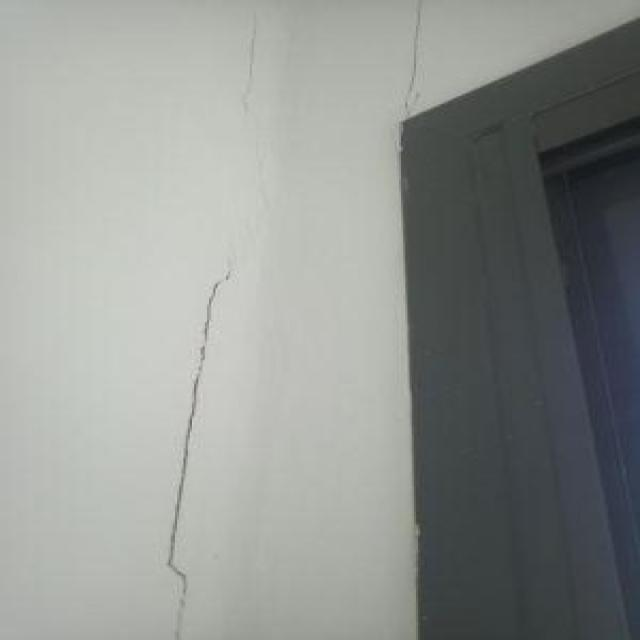crack: (165, 261, 237, 638), (401, 4, 427, 117), (240, 16, 261, 113)
